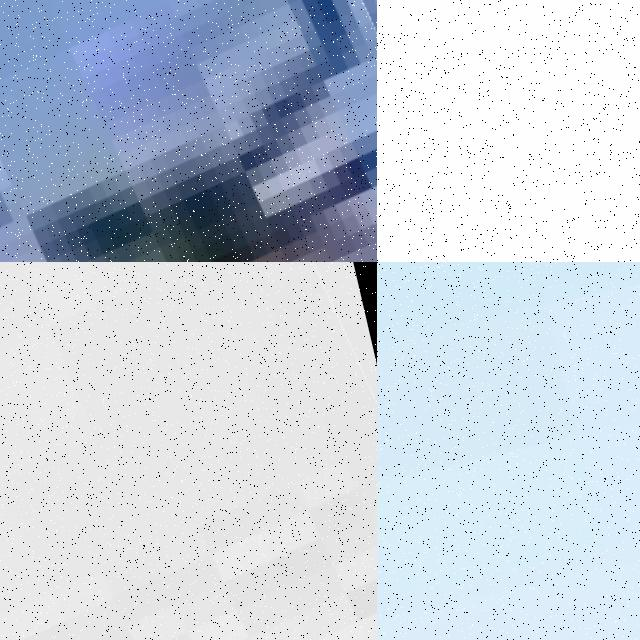drone: (0, 262, 377, 640), (0, 0, 377, 262)
